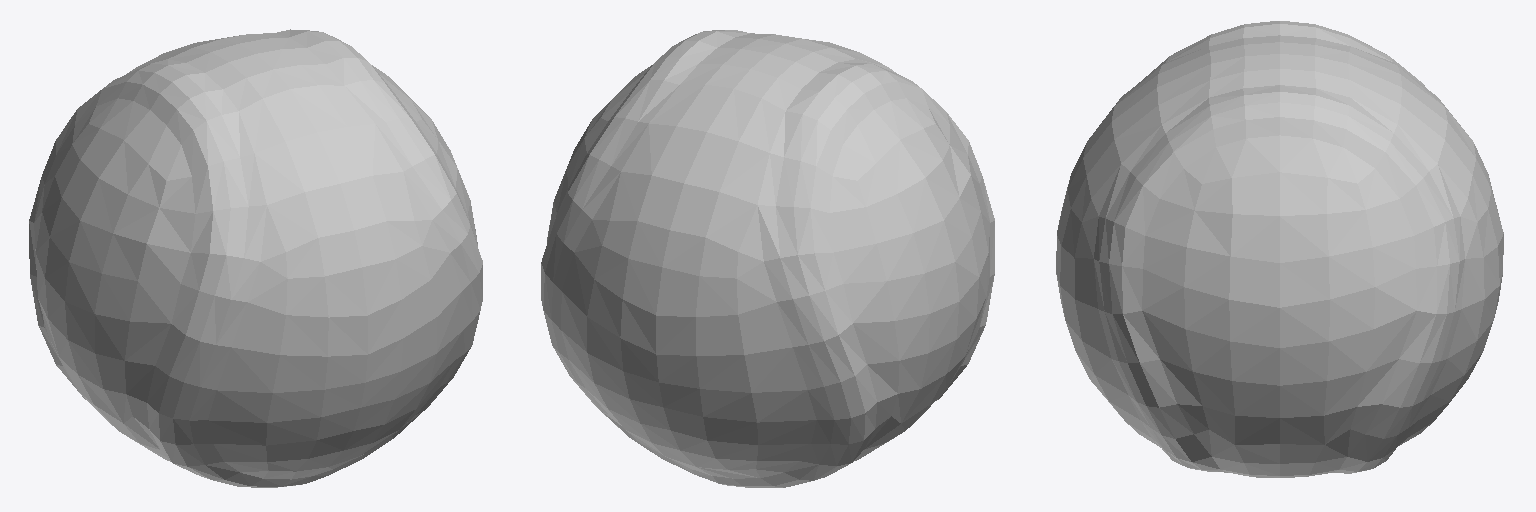
File: baseball.obj
3 renders of one model, left to right at view 1: azimuth 30°, elevation 25°; view 2: azimuth 150°, elevation 25°; view 3: azimuth 270°, elevation 25°, orthographic.
Parts seen in each view (by area): view 1: baseball_ball_01; view 2: baseball_ball_01; view 3: baseball_ball_01.
Part boxes in pixels (x1,y1,x2,y2): baseball_ball_01: (29, 29, 482, 487); baseball_ball_01: (541, 30, 994, 487); baseball_ball_01: (1056, 21, 1503, 477).
Size of the model in its own units: 0.3231 by 0.3263 by 0.3274.